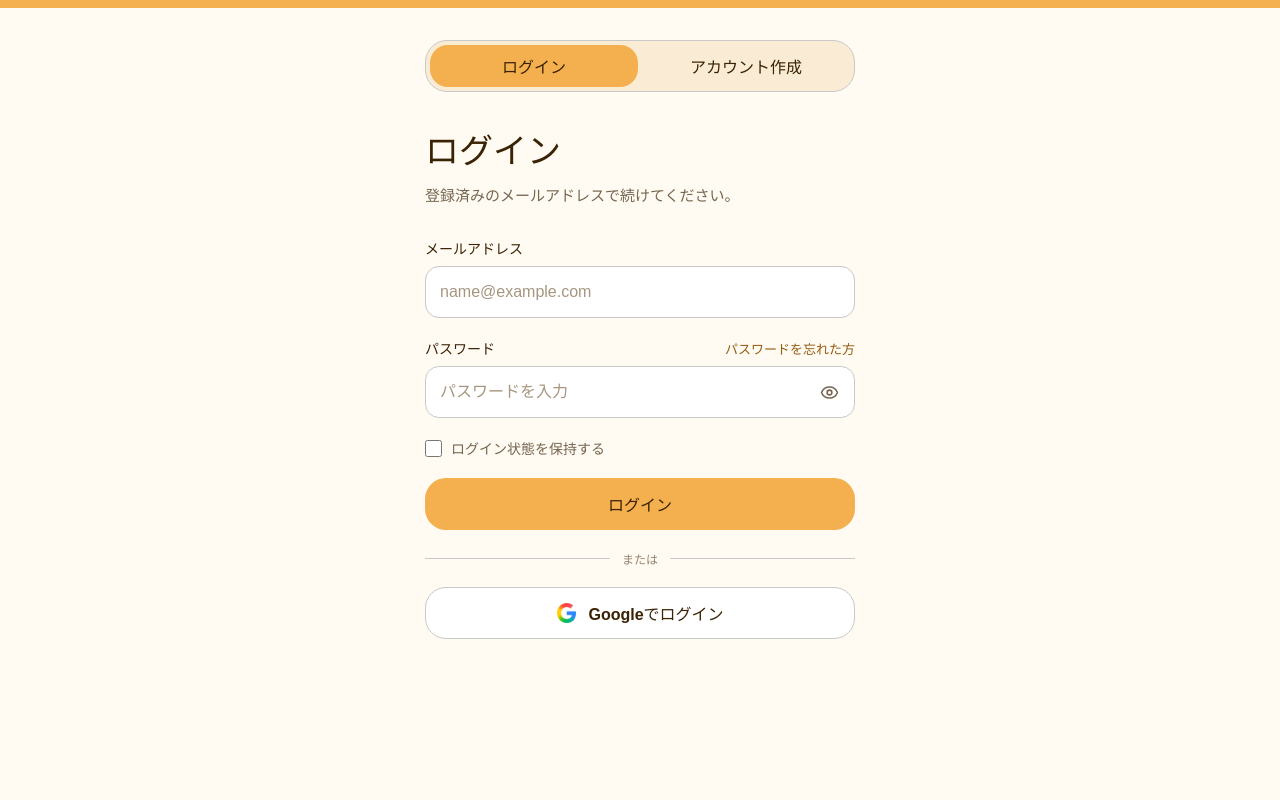
it: LoginPage › パスワードの表示と非表示を切り替えられる
Click the button named "パスワードを表示" at (829, 392), box 809,372 -> 849,412
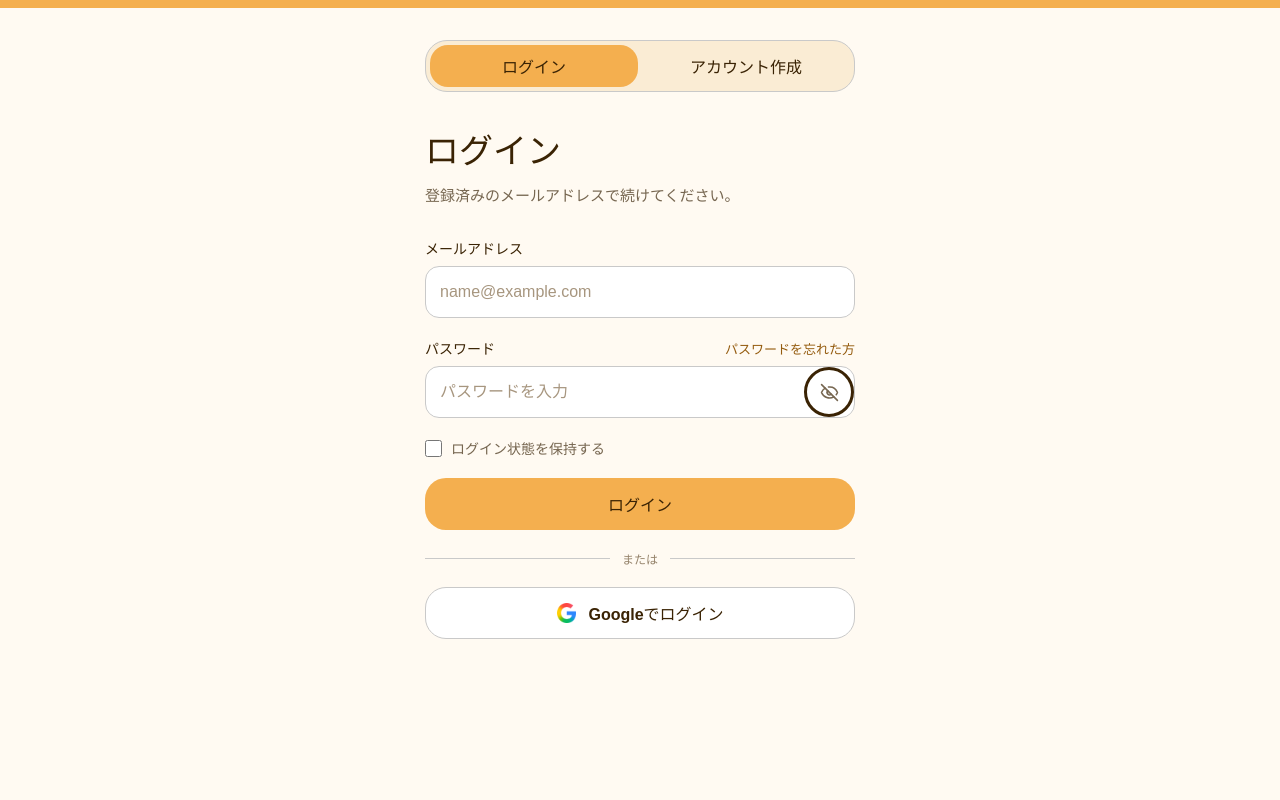
Check: the button named "パスワードを隠す" is shown, box 809,372 -> 849,412
